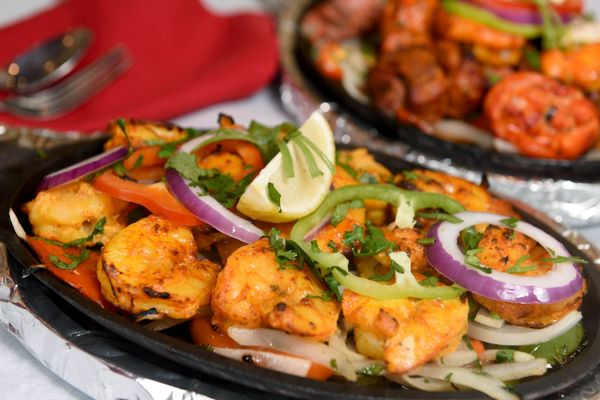sushi: (278, 0, 599, 225)
